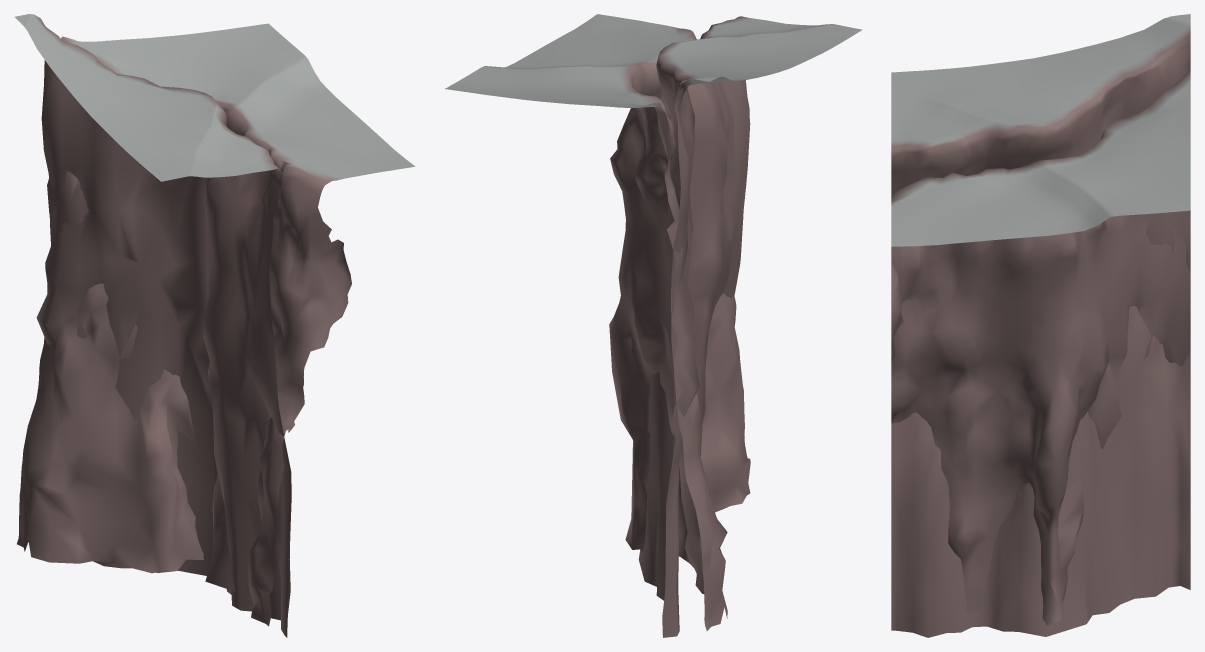
3 renders of one model, left to right at view 1: azimuth 30°, elevation 25°; view 2: azimuth 150°, elevation 25°; view 3: azimuth 270°, elevation 25°, orthographic. The views are drawn at different scales.
Parts seen in each view (by area): view 1: G:\FFXIV-MapTools\exports\u5f1\bg\ex4\04_uvs_u5\fld\u5f1\bgp (×10); view 2: G:\FFXIV-MapTools\exports\u5f1\bg\ex4\04_uvs_u5\fld\u5f1\bgp (×9); view 3: G:\FFXIV-MapTools\exports\u5f1\bg\ex4\04_uvs_u5\fld\u5f1\bgp (×10).
Part boxes in pixels (x1,y1,x2,y2): G:\FFXIV-MapTools\exports\u5f1\bg\ex4\04_uvs_u5\fld\u5f1\bgp (×10): (14, 14, 415, 637); G:\FFXIV-MapTools\exports\u5f1\bg\ex4\04_uvs_u5\fld\u5f1\bgp (×9): (445, 16, 862, 637); G:\FFXIV-MapTools\exports\u5f1\bg\ex4\04_uvs_u5\fld\u5f1\bgp (×10): (891, 14, 1190, 637).
Bounding box in the file's own units: 128 × 262 × 128.
